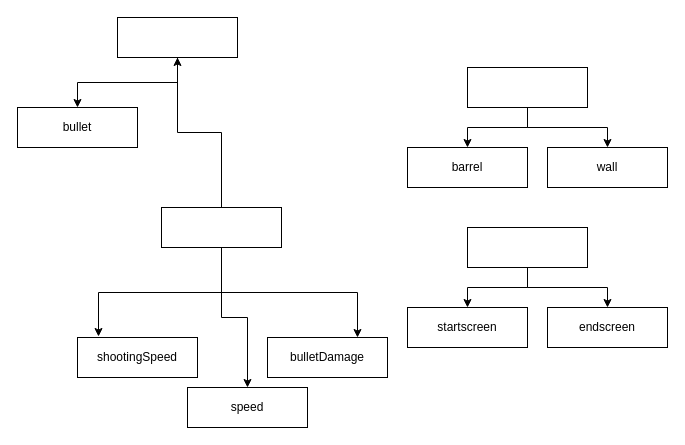
The diagram is 685 pixels wide and 445 high, and some of its shapes have lost their labels. Here are the shapes that lost their labels. From the top down, the centre of each, then its label:
the point at 177,37: tank
the point at 527,87: map
the point at 221,227: power up
the point at 527,247: menu
